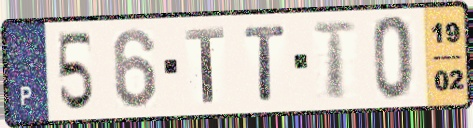0: (370, 13, 419, 103)
5: (55, 29, 96, 112)
6: (110, 26, 159, 111)
T: (310, 19, 360, 101), (242, 22, 289, 103), (184, 25, 227, 105)
